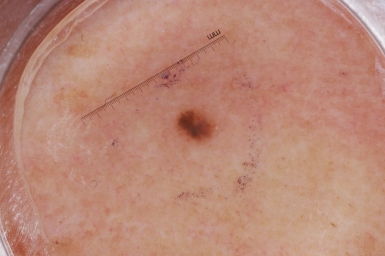seborrheic keratosis: (151, 99, 240, 165)
